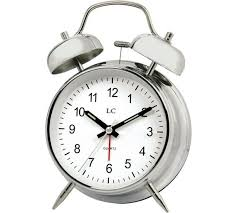alarm_clock: (46, 1, 192, 212)
